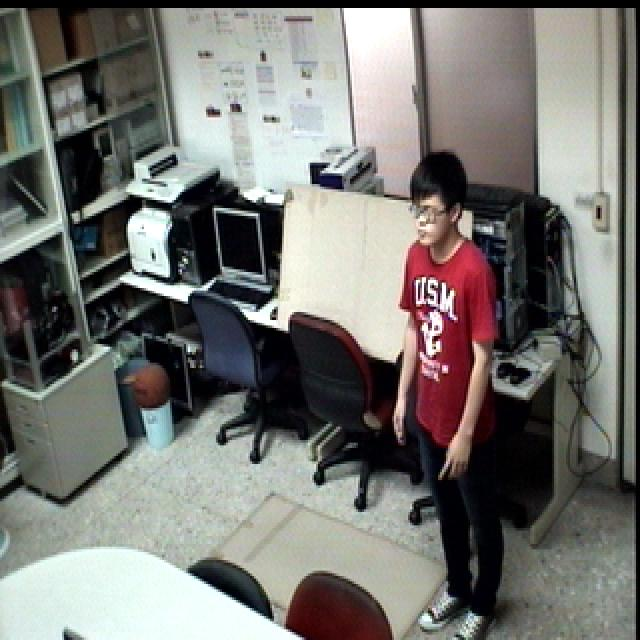stand: (386, 143, 516, 640)
